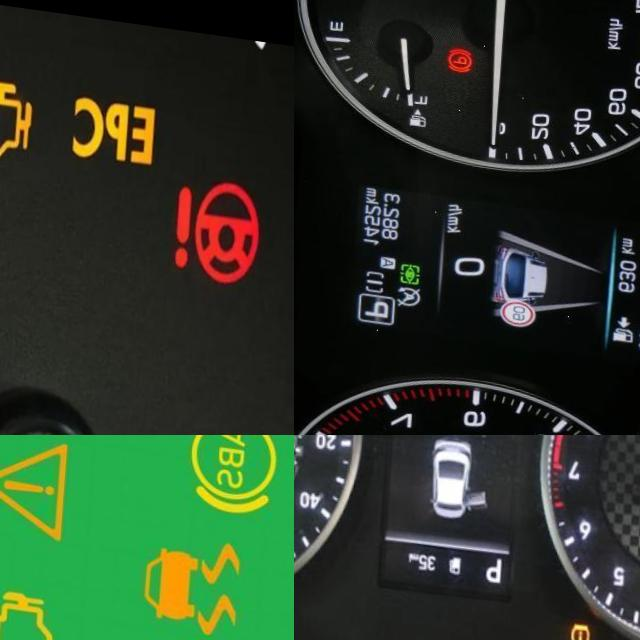Electronic Power Steering: (175, 160, 267, 274)
